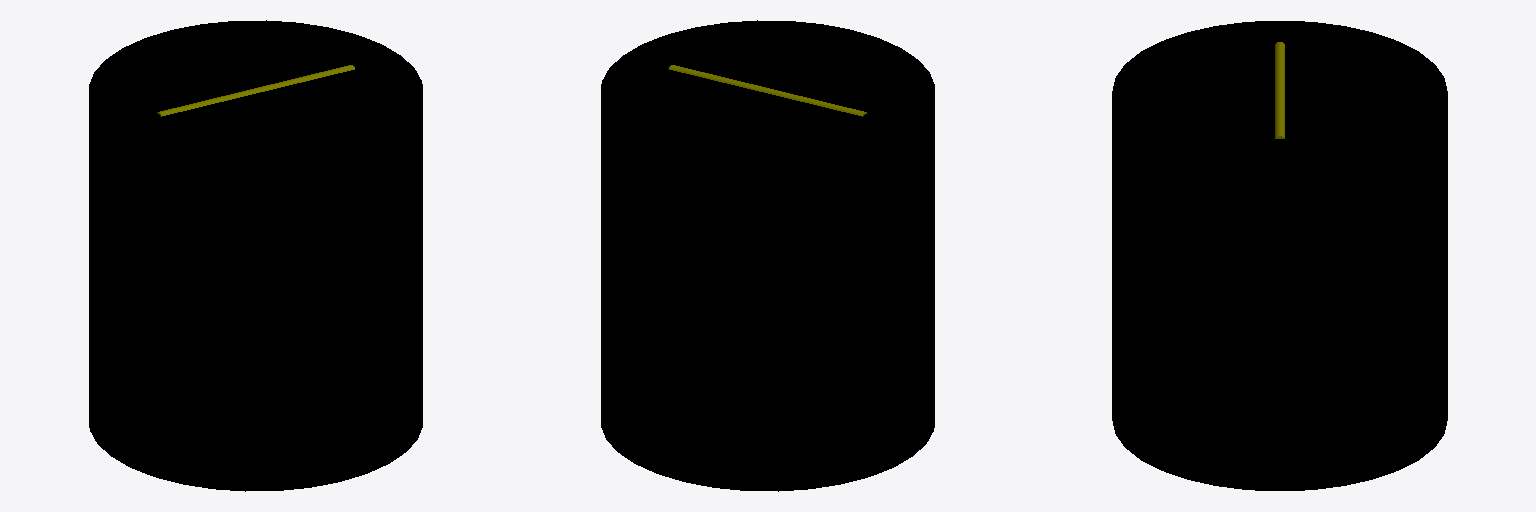
URDF robot description (robot):
<robot name="robot">
<link name="base_link"/>

   <link name="capsuleobject">
    <visual>
      <geometry>
        <cylinder length="0.65" radius="0.3"/>
      </geometry>
      <material name="black">
        <color rgba="0. 0 0 1"/>
      </material>
      <origin rpy="0 0 0" xyz="0. 0 0"/>
    </visual>
    <collision>
      <geometry>
        <cylinder length="0.65" radius="0.3"/>
      </geometry>
      <origin rpy="0 0 0" xyz="0. 0 0"/>
    </collision>
    <inertial>
      <mass value="1"/>
      <inertia ixx="1" ixy="0.0" ixz="0.0" iyy="1" iyz="0.0" izz="1"/>
    </inertial>
  </link>

  <link name="capsuleobject2">
    <visual>
      <geometry>
        <cylinder length="0.4" radius="0.01"/>
      </geometry>
      <material name="yellow">
        <color rgba="0.5 0.5 0 1"/>
      </material>
      <origin rpy="0 1.57 0" xyz="0. 0 0.32"/>
    </visual>
    <inertial>
      <mass value="0.001"/>
      <inertia ixx="0.001" ixy="0.0" ixz="0.0" iyy="0.001" iyz="0.0" izz="0.001"/>
    </inertial>
  </link>

  <joint name="joint1" type="fixed">
    <parent link="base_link"/>
    <child link="capsuleobject"/>
    <origin xyz="0 0 0" rpy="0 0 0" />
    <axis xyz = "0 0 1" />
  </joint>

  <joint name="joint2" type="fixed">
    <parent link="capsuleobject"/>
    <child link="capsuleobject2"/>
  </joint>

</robot>

--- What the picture shows (computed from the rendered views, not written in the file) ---
3 views of the same robot in one strip: view 1: azimuth 30°, elevation 25°; view 2: azimuth 150°, elevation 25°; view 3: azimuth 270°, elevation 25° (orthographic).
Model robot with 3 links and 2 joints (2 fixed), rooted at base_link, posed all joints at 0.
Links seen in each view (by area): view 1: capsuleobject, capsuleobject2; view 2: capsuleobject, capsuleobject2; view 3: capsuleobject, capsuleobject2.
Link boxes in pixels (box(x1,y1,x2,y2)): capsuleobject: box(89, 20, 422, 491); capsuleobject2: box(157, 65, 354, 116); capsuleobject: box(601, 20, 934, 491); capsuleobject2: box(669, 65, 866, 116); capsuleobject: box(1112, 21, 1447, 490); capsuleobject2: box(1275, 42, 1284, 138).
Bounding box of the posed robot: 0.6 × 0.6 × 0.6552 m (x, y, z).
Geometry: primitives only (box / cylinder / sphere), no mesh files.